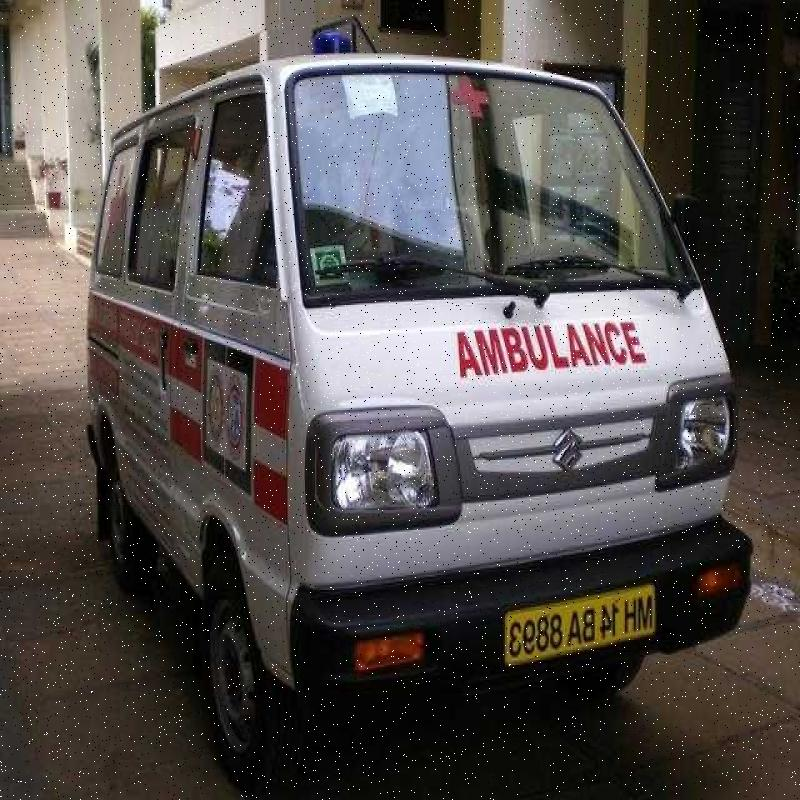AmbulanceSiren: (306, 26, 353, 54)
ambulance: (94, 35, 751, 726)
